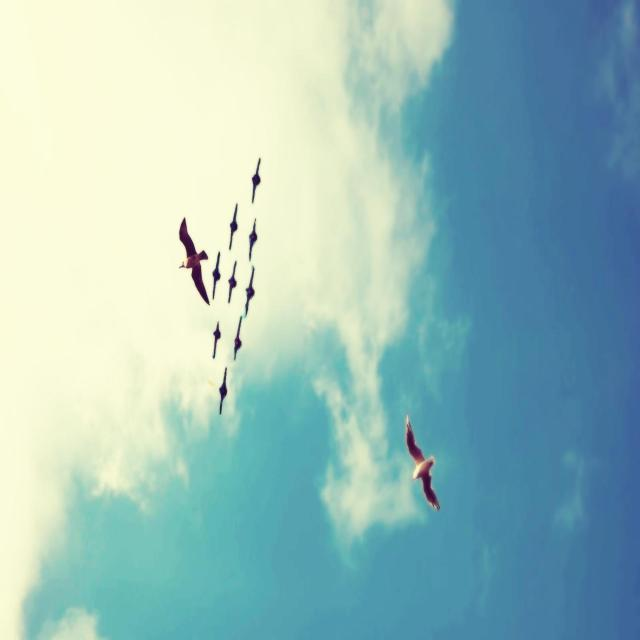airplane: (243, 266, 258, 317), (218, 364, 230, 416), (209, 252, 221, 302), (247, 216, 259, 261), (227, 259, 238, 308), (228, 202, 239, 250), (210, 318, 222, 360), (251, 157, 261, 203), (233, 314, 242, 361)
